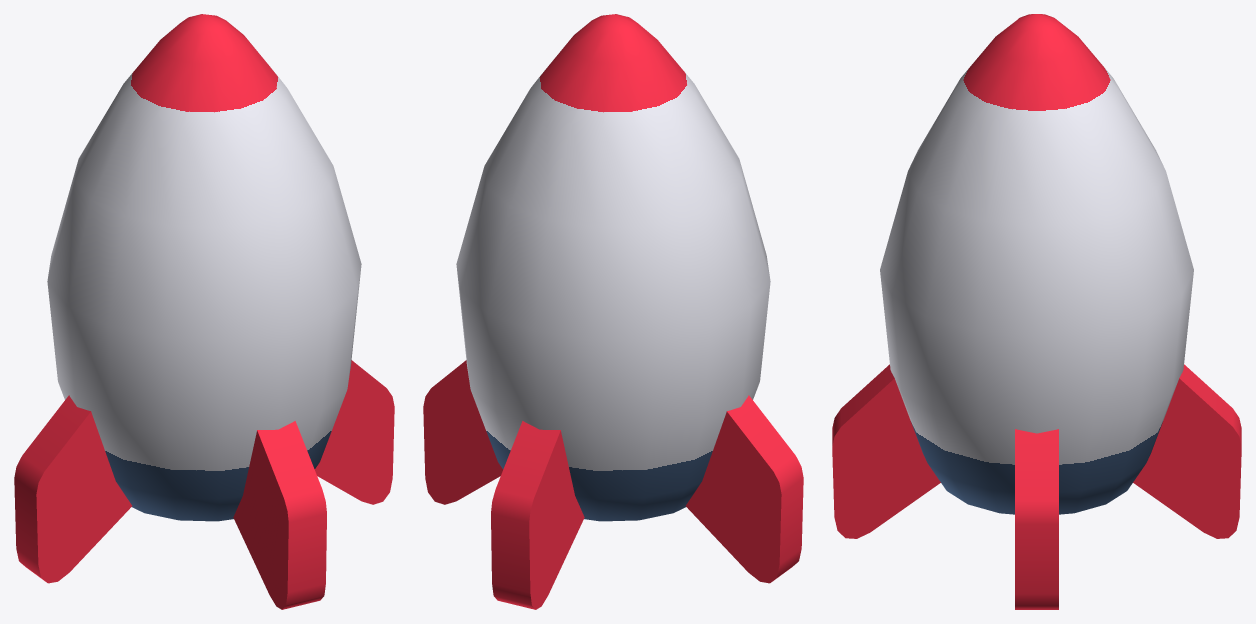
File: Rocket_TeamsBattle.fbx
3 renders of one model, left to right at view 1: azimuth 30°, elevation 25°; view 2: azimuth 150°, elevation 25°; view 3: azimuth 270°, elevation 25°, orthographic.
Visible parts, largest first — view 1: Rocket; view 2: Rocket; view 3: Rocket.
Boxes of the visible parts, bbox=[...] form: Rocket: bbox=[14, 14, 394, 609]; Rocket: bbox=[423, 14, 803, 609]; Rocket: bbox=[832, 14, 1241, 609].
Bounding box in the file's own units: 93.46 × 130 × 93.46.
